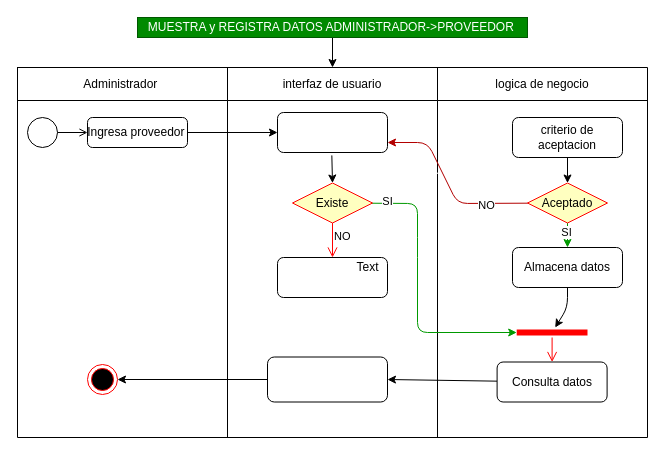
This 665x455 diagram has some shape labels left out. Each missing label, with the box of its shape:
Muestra datos: (266, 356, 388, 402)
Regista datos de entrada: (276, 256, 388, 298)
Valida registro: (276, 112, 388, 152)
